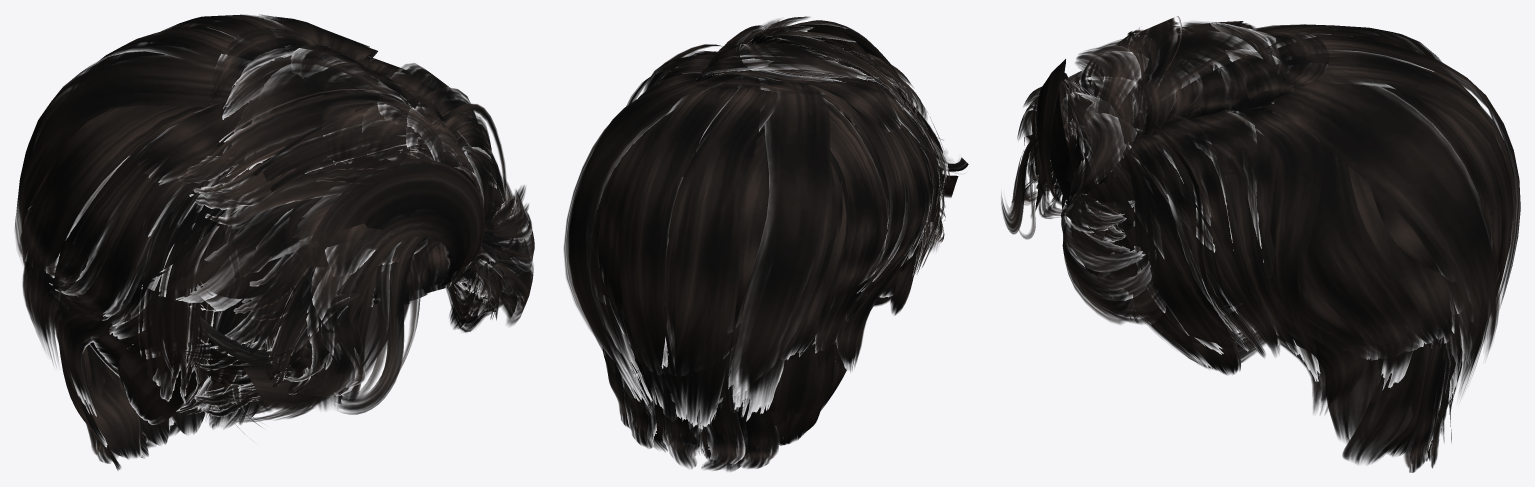
File: Rectangle_Wavy_SideSwept.glb
3 renders of one model, left to right at view 1: azimuth 30°, elevation 25°; view 2: azimuth 150°, elevation 25°; view 3: azimuth 270°, elevation 25°, orthographic. The views are drawn at different scales.
Visible parts, largest first — view 1: SIDE SWEPT - CurlyFront; view 2: SIDE SWEPT - CurlyFront; view 3: SIDE SWEPT - CurlyFront.
Boxes of the visible parts, x1,y1,x2,y2 form: SIDE SWEPT - CurlyFront: [15, 14, 534, 470]; SIDE SWEPT - CurlyFront: [564, 16, 968, 471]; SIDE SWEPT - CurlyFront: [1001, 16, 1520, 472].
Size of the model in its own units: 0.203 by 0.2256 by 0.2606.
1 material, 1 textured.
